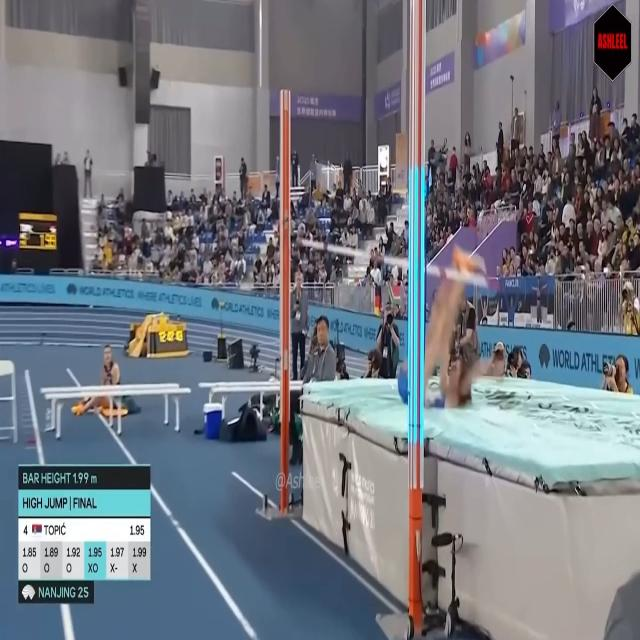land: (398, 248, 496, 407)
